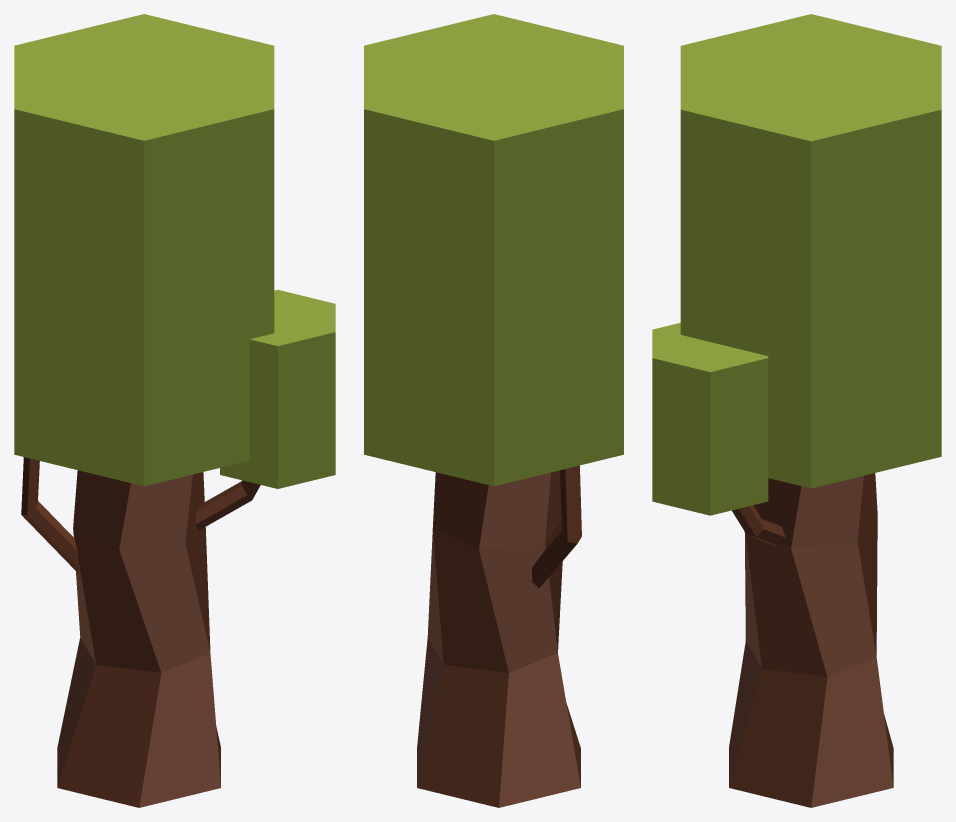
The model's file is tree1.fbx.
The picture shows the model from 3 angles, left to right: view 1: azimuth 30°, elevation 25°; view 2: azimuth 150°, elevation 25°; view 3: azimuth 270°, elevation 25°; orthographic projection.
Visible parts, largest first — view 1: tree1; view 2: tree1; view 3: tree1.
Part boxes in pixels (bbox=[...]): tree1: bbox=[14, 14, 335, 807]; tree1: bbox=[364, 14, 623, 807]; tree1: bbox=[652, 14, 941, 807].
Size of the model in its own units: 1.39 by 3.36 by 1.27.
